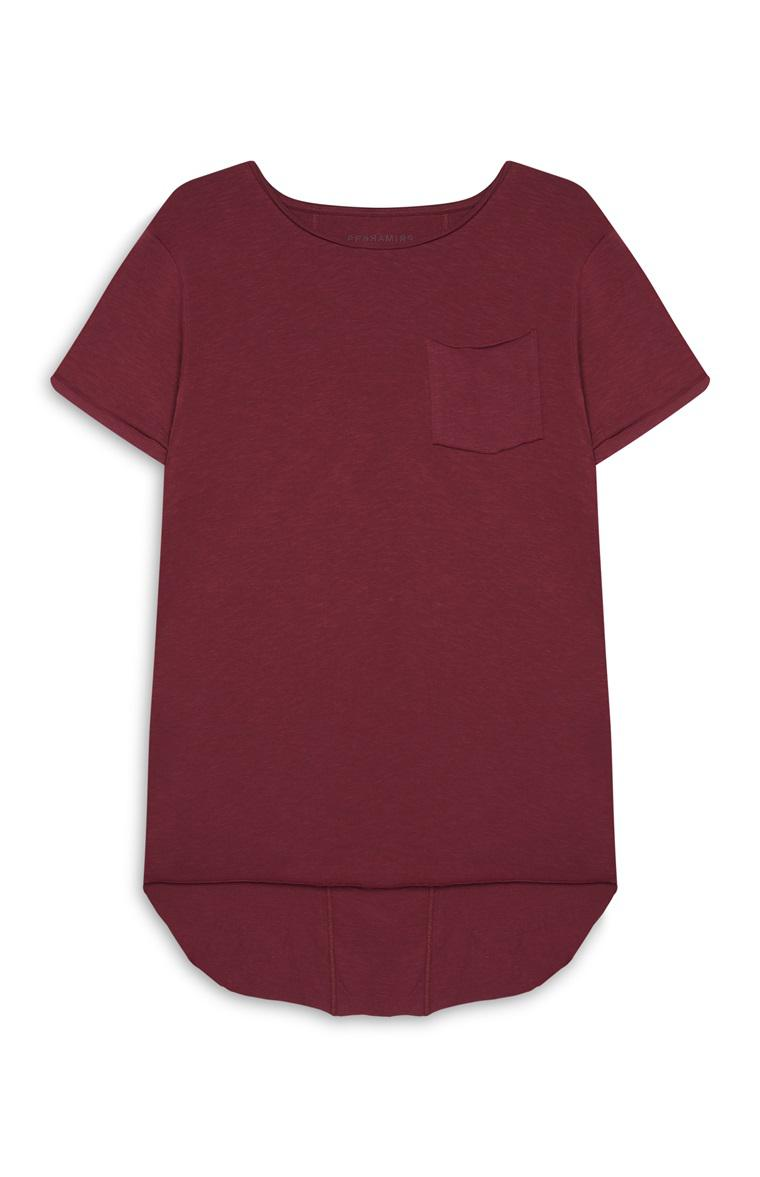teeshirt: (50, 143, 695, 1052)
